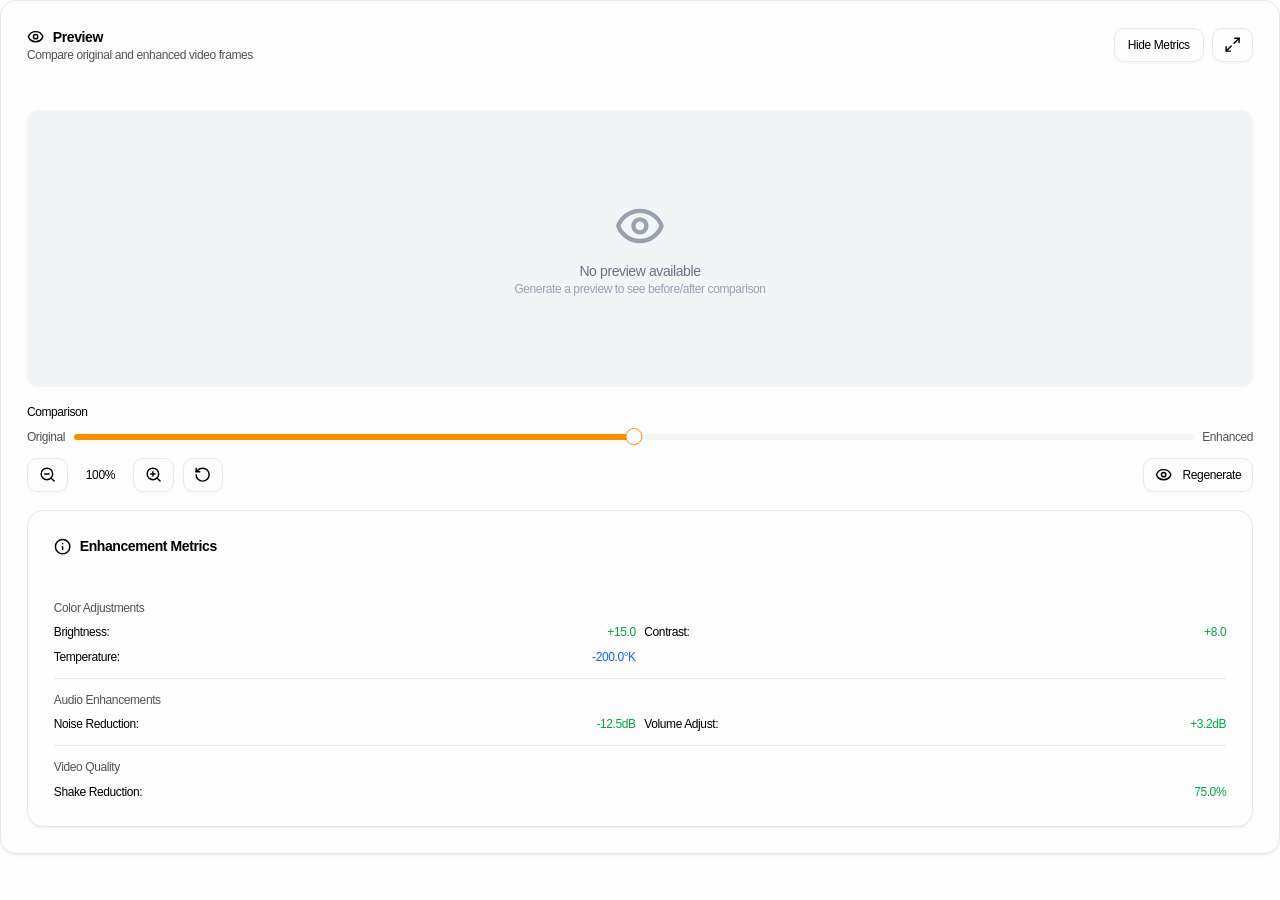
Scenario: EnhancementPreview › Metrics Display › should hide metrics when show metrics is toggled off
Click the button "Hide Metrics" at (1159, 45), box [1114, 28, 1204, 62]
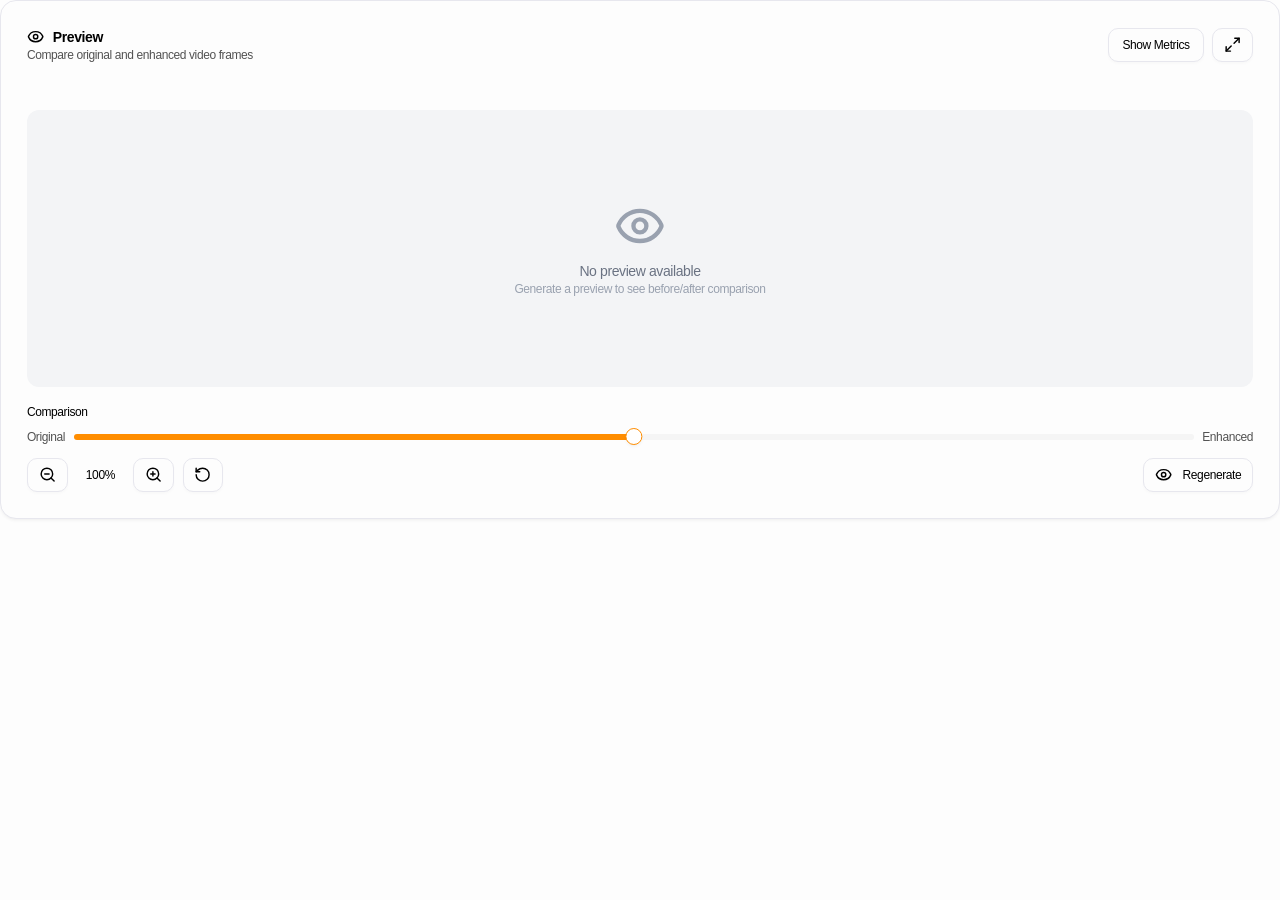
Result: the text "Enhancement Metrics" is gone
